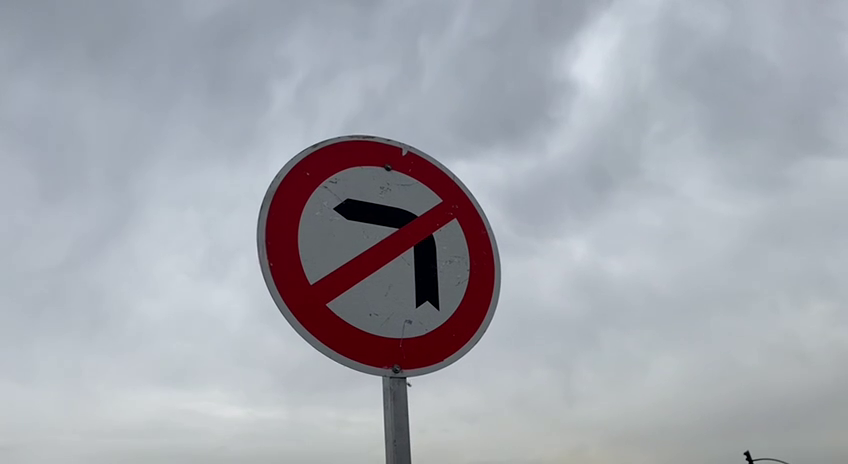noTurnLeft: (244, 130, 510, 387)
